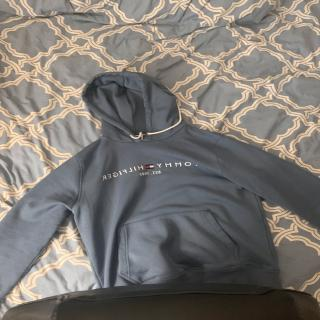Blue Hoodie: (0, 64, 320, 305)
